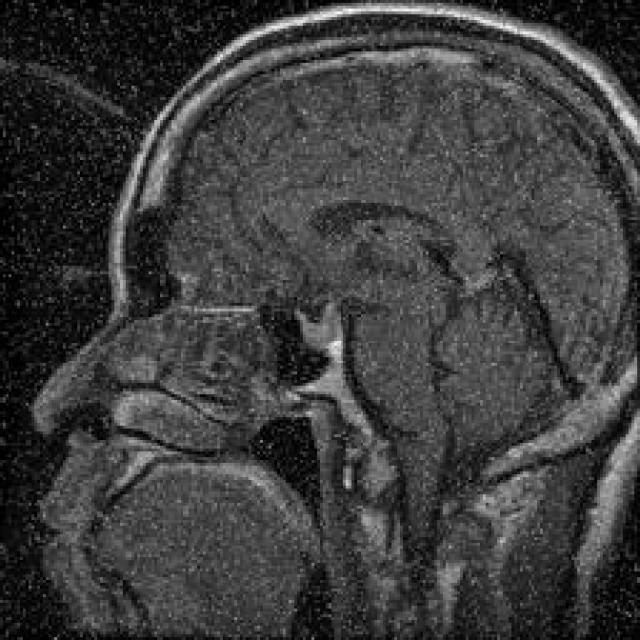pituitary_tumor: (283, 283, 362, 373)
